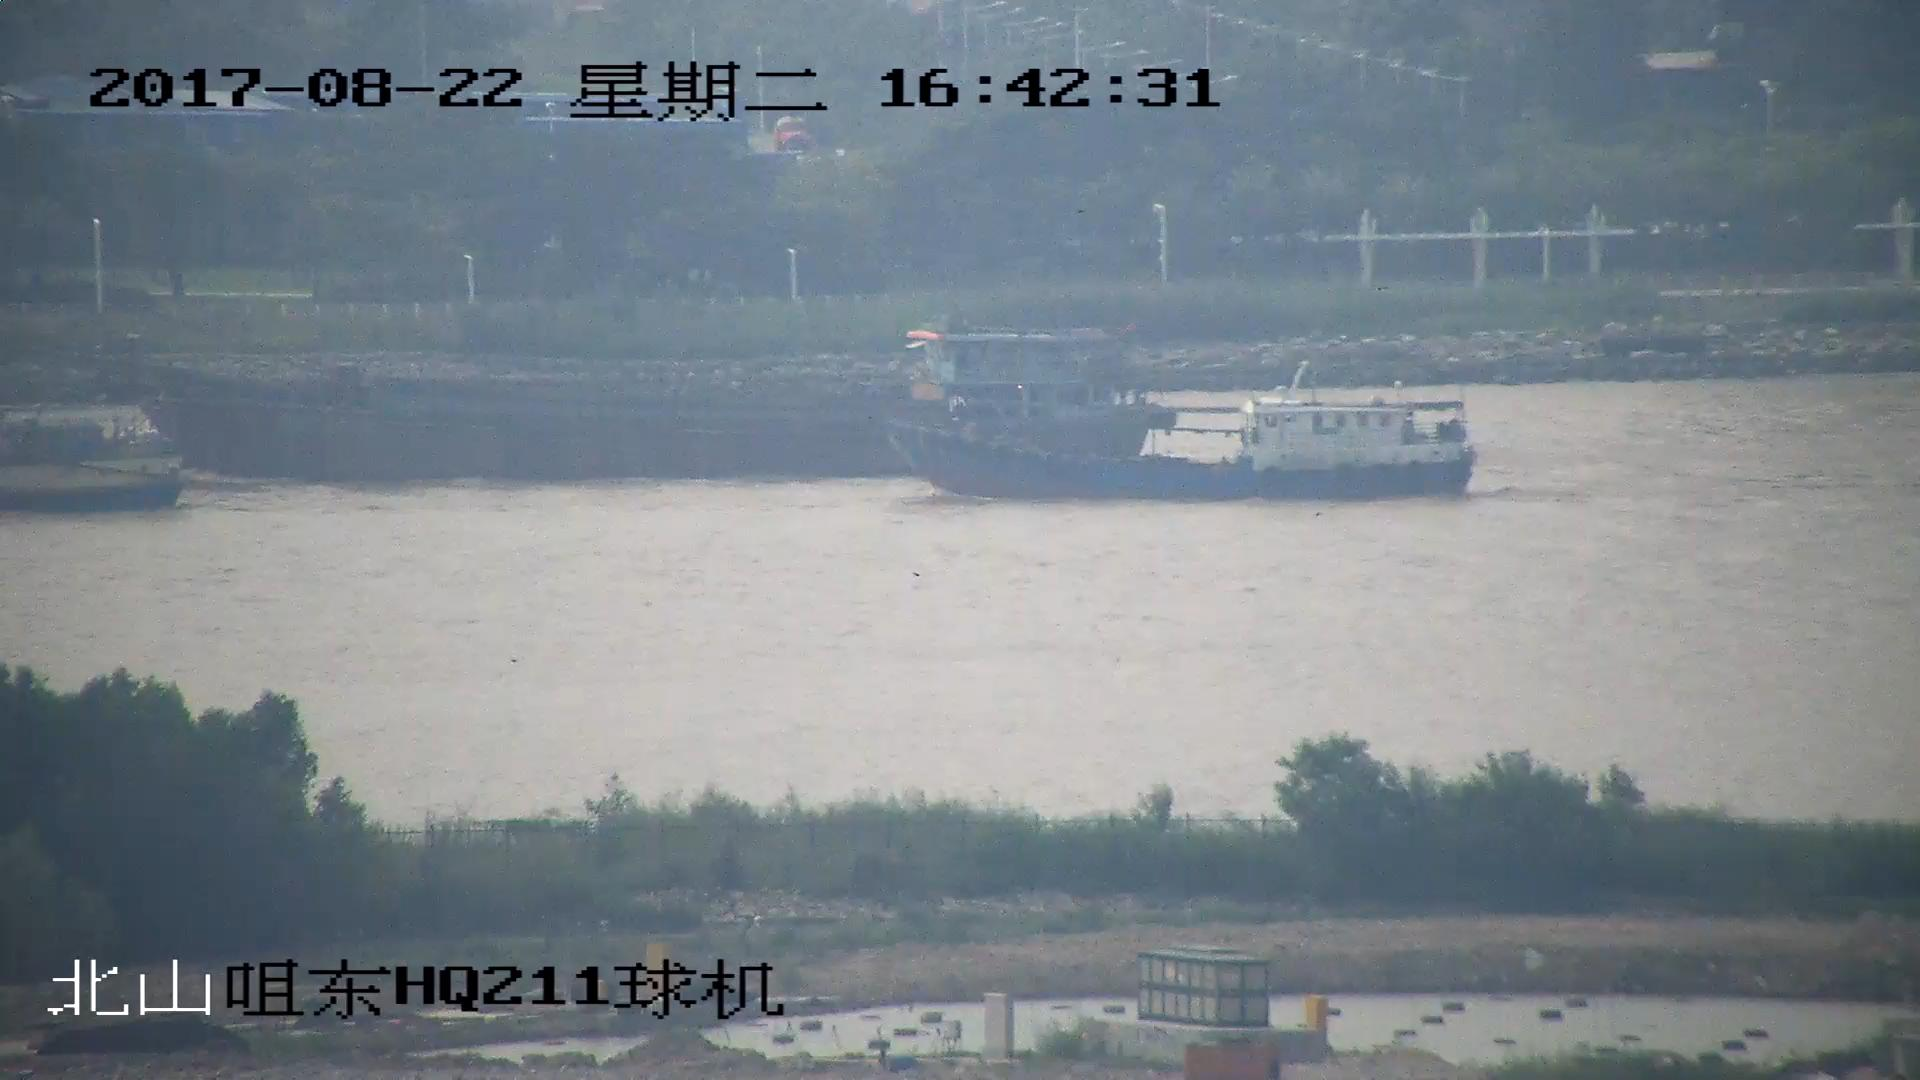bulk cargo carrier: (1, 326, 1172, 478)
fishing boat: (872, 371, 1484, 503), (1, 416, 195, 510)
